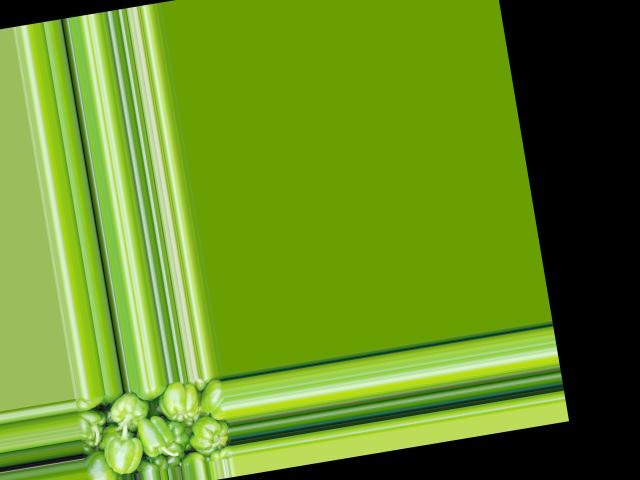bell_pepper: (83, 449, 120, 480)
